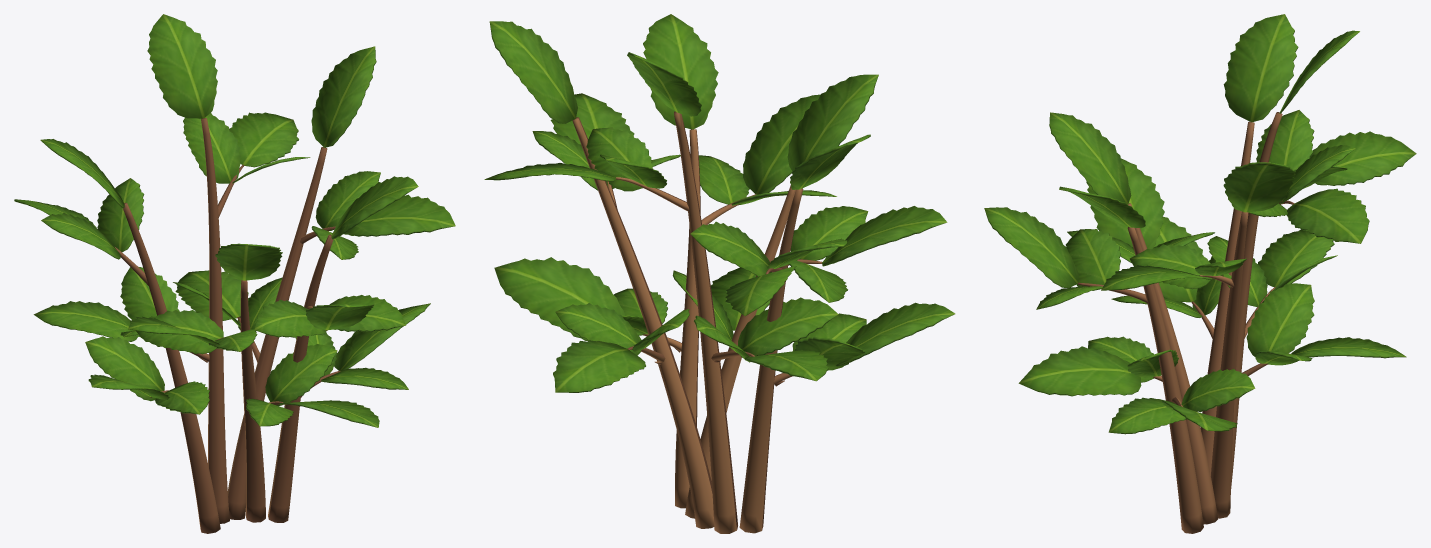
File: NP_Raspberry_Young.fbx
3 renders of one model, left to right at view 1: azimuth 30°, elevation 25°; view 2: azimuth 150°, elevation 25°; view 3: azimuth 270°, elevation 25°, orthographic. The views are drawn at different scales.
Parts seen in each view (by area): view 1: NP_Raspberry_Young; view 2: NP_Raspberry_Young; view 3: NP_Raspberry_Young.
Boxes of the visible parts, x1,y1,x2,y2 form: NP_Raspberry_Young: [14, 14, 455, 533]; NP_Raspberry_Young: [484, 14, 955, 533]; NP_Raspberry_Young: [984, 14, 1416, 533].
Size of the model in its own units: 45.47 by 53.7 by 43.78.
1 material, 1 textured.
